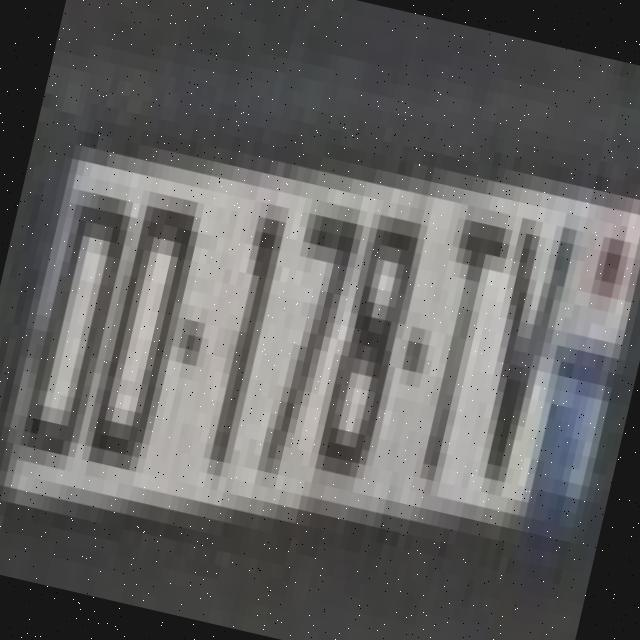Autre: (0, 148, 640, 531)
